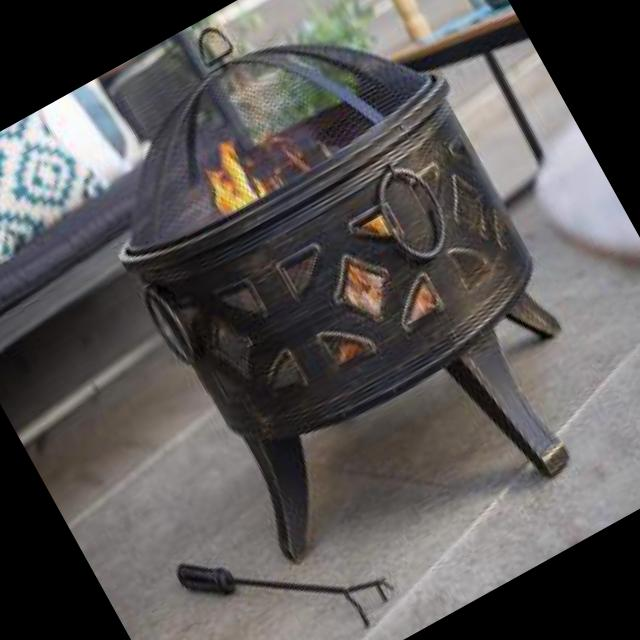fire: (182, 124, 280, 235)
